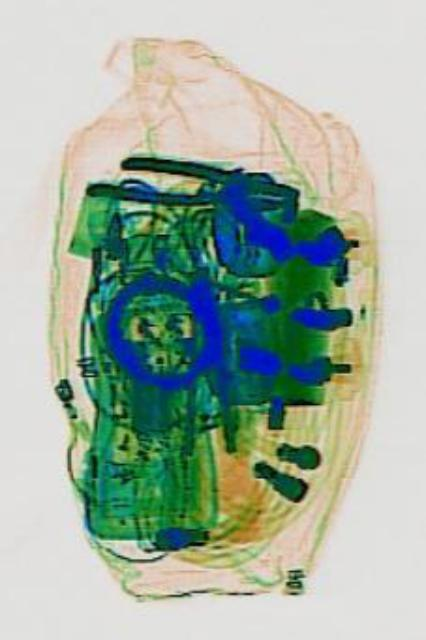Pliers: (83, 144, 296, 218)
